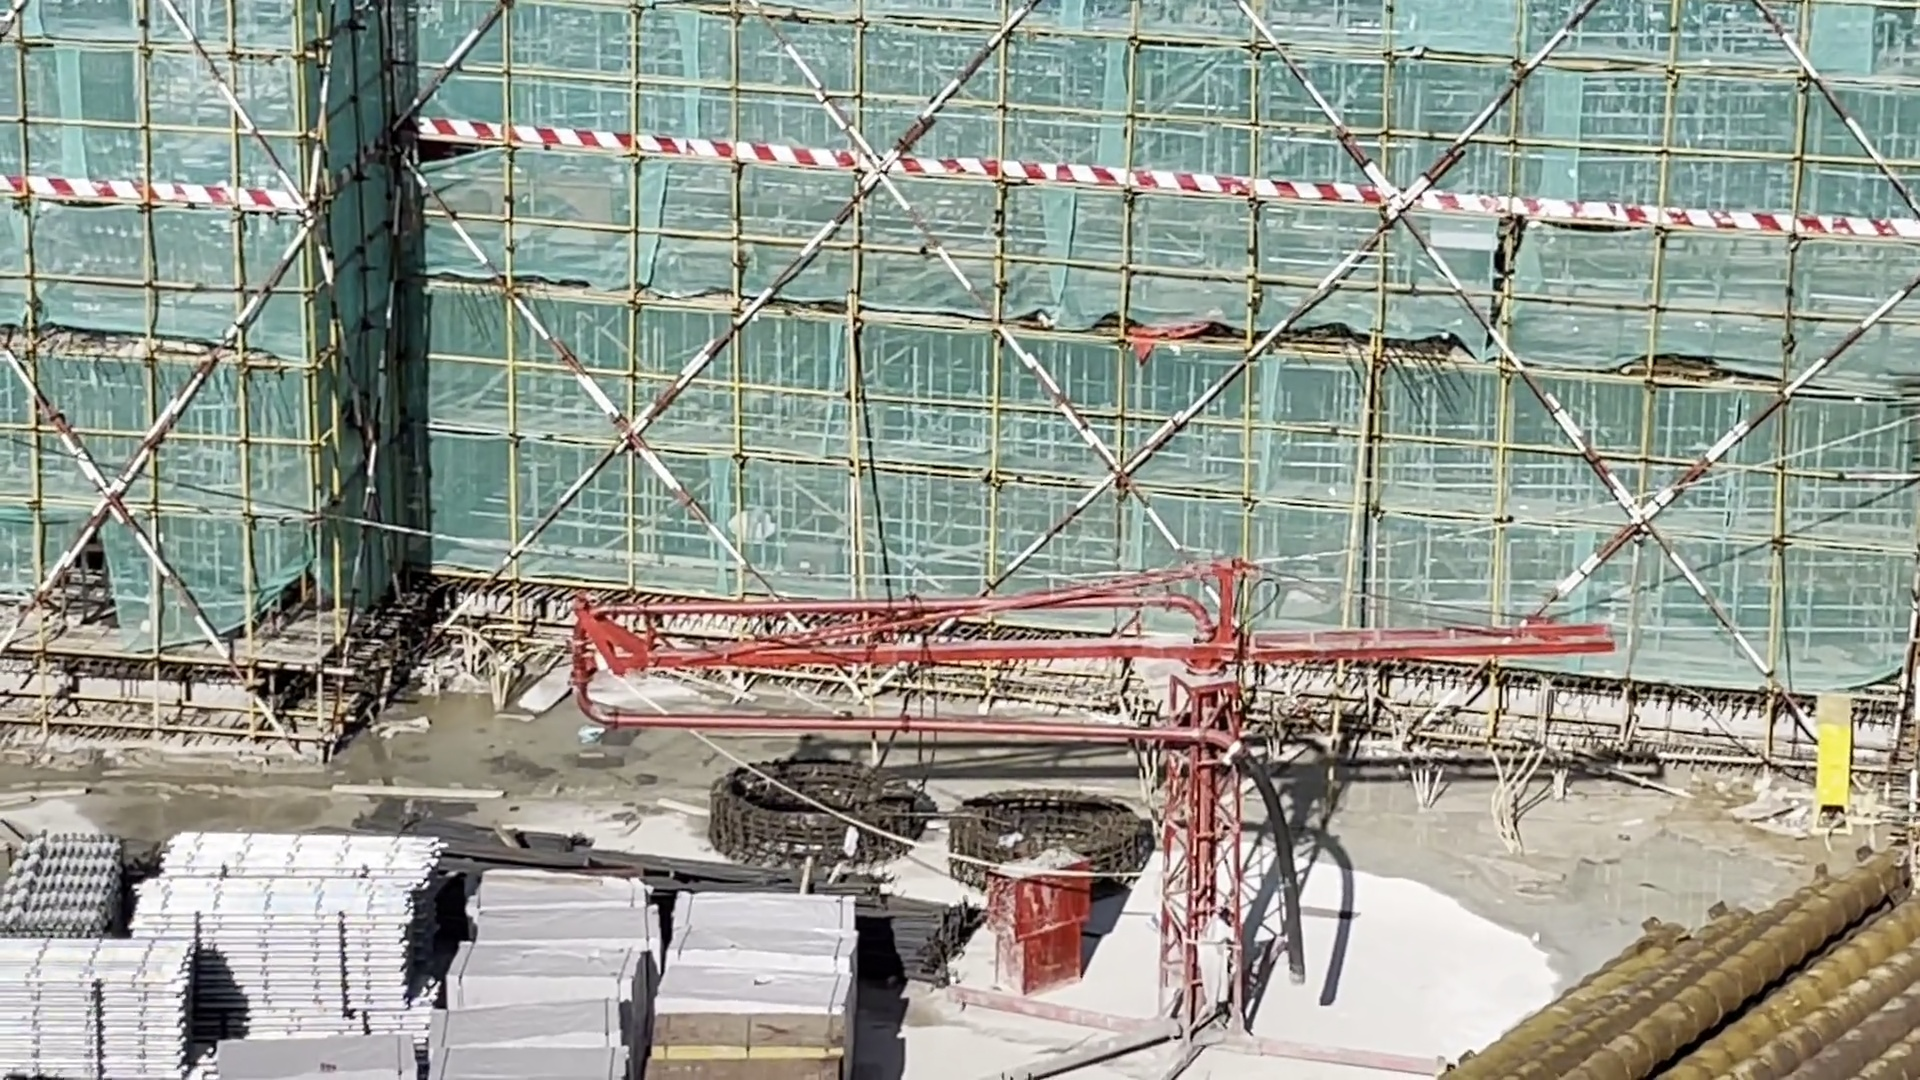board: (669, 1007, 862, 1080)
ebox: (1783, 691, 1859, 825)
rebar: (1431, 845, 1920, 1073), (419, 802, 688, 866), (864, 889, 953, 969)
scaffold: (171, 844, 421, 1025), (18, 951, 210, 1080), (41, 825, 141, 951)
